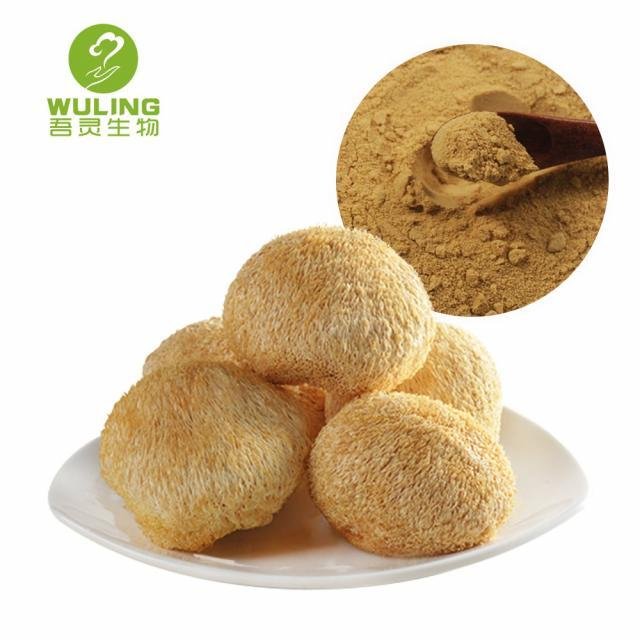Hericium erinaceus: (100, 360, 301, 551), (314, 389, 514, 554), (226, 229, 432, 388), (327, 319, 506, 441)
